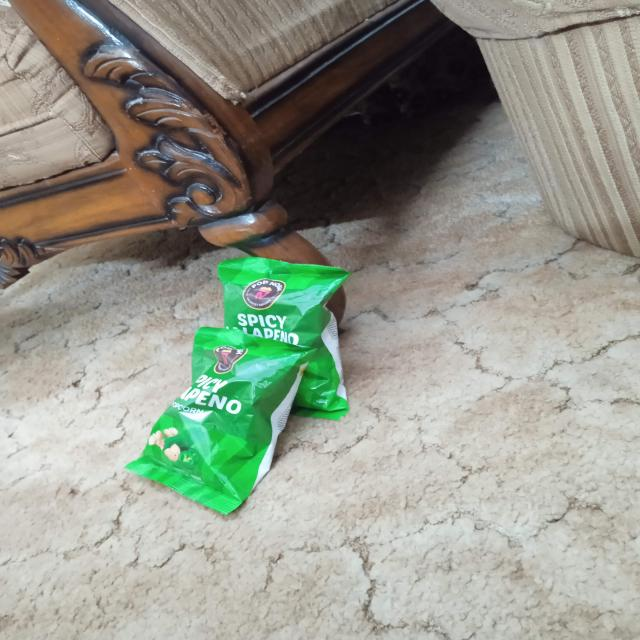Plastic: (133, 331, 306, 500), (219, 258, 351, 331)
